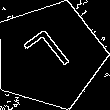L_SE: (21, 26, 78, 85)
